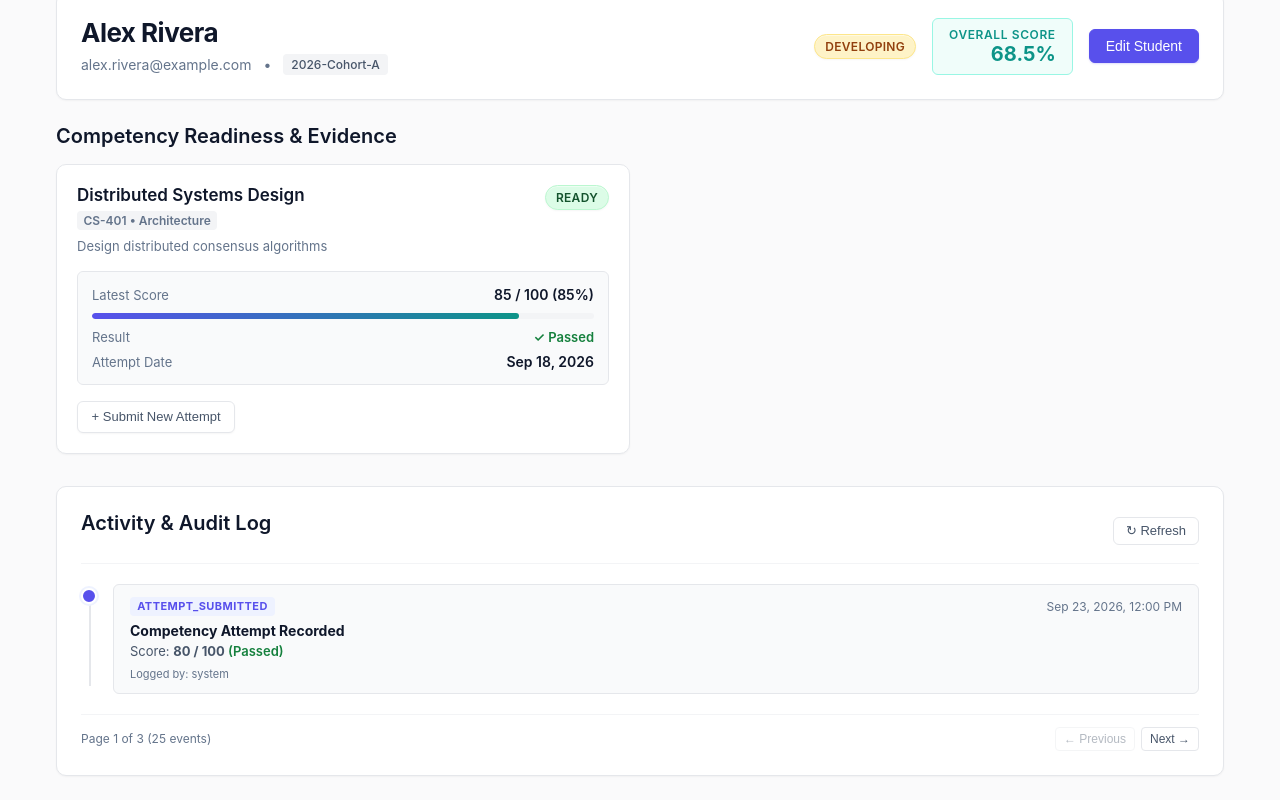
Activity Log Integration Tests › BOUNDED PAGINATION: navigates across pages and respects boundary disabled states
(page scrolled)
Expected: the text "Page 1 of 3 (25 events)" is shown, [81,731,211,746]
Expected: the button with aria-label "Previous activity page" is disabled, [1055,727,1135,751]
Click the button with aria-label "Next activity page": (1170, 739) [1141,727,1199,751]
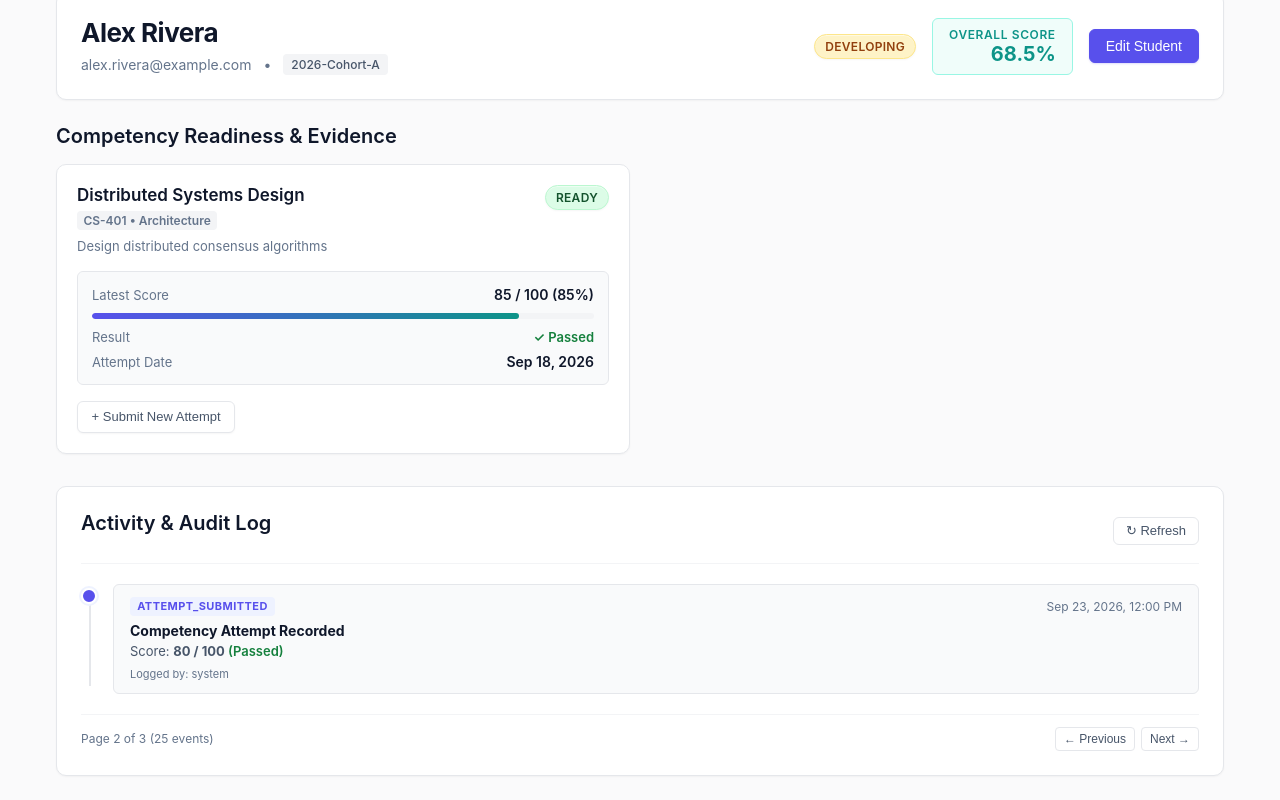
Now the text "Page 2 of 3 (25 events)" is shown, box [81,731,214,746]
Now the button with aria-label "Previous activity page" is enabled, box [1055,727,1135,751]
Click the button with aria-label "Next activity page": (1170, 739) [1141,727,1199,751]
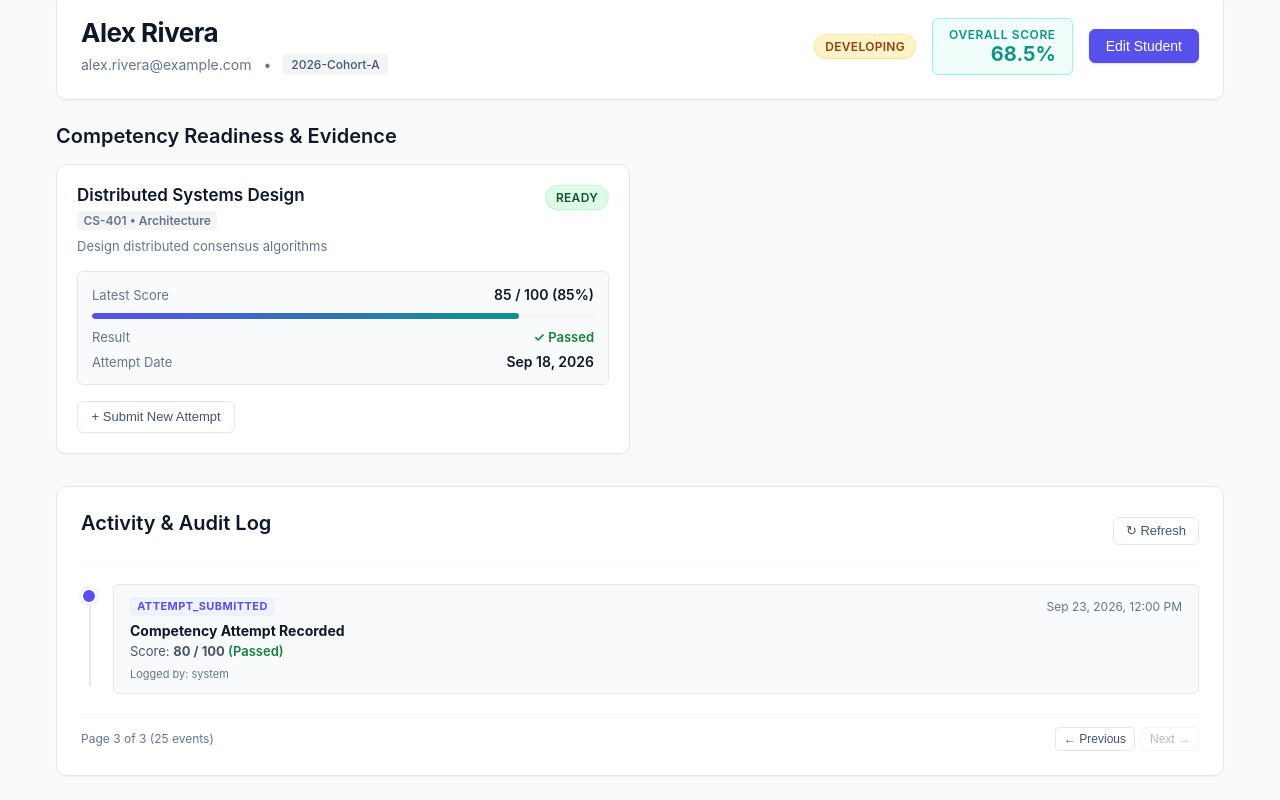
Now the button with aria-label "Previous activity page" is enabled, box [1055,727,1135,751]
Now the text "Page 3 of 3 (25 events)" is shown, box [81,731,214,746]
Now the button with aria-label "Next activity page" is disabled, box [1141,727,1199,751]
